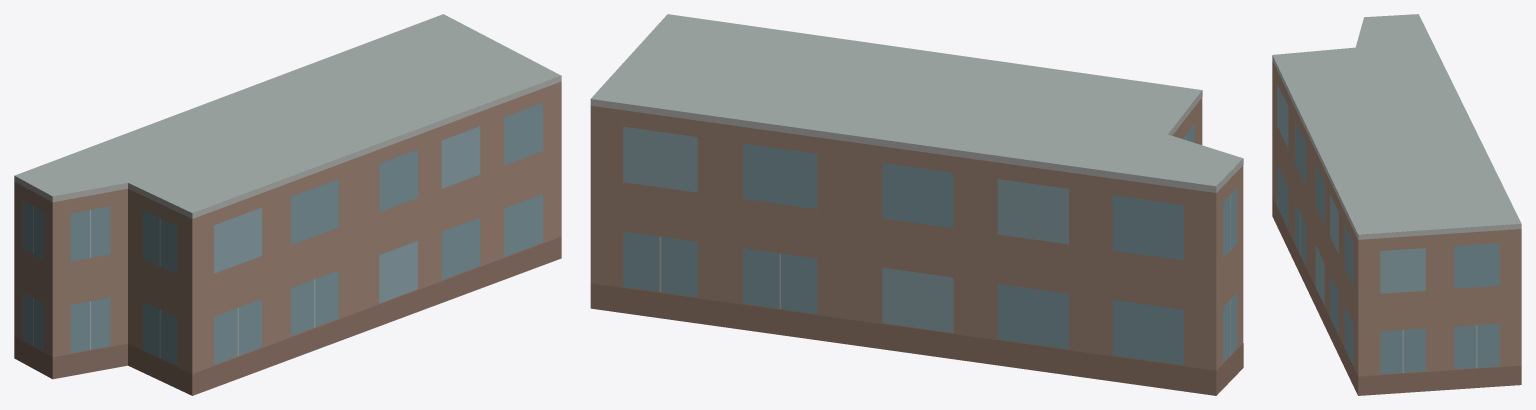
File: survey-upis-32969924.glb
3 views of the same model, side by side, from view 1: azimuth 30°, elevation 25°; view 2: azimuth 150°, elevation 25°; view 3: azimuth 270°, elevation 25° (orthographic). The views are drawn at different scales.
Visible parts, largest first — view 1: survey-upis-32969924.tmp; view 2: survey-upis-32969924.tmp; view 3: survey-upis-32969924.tmp.
Boxes of the visible parts, bbox=[...] form: survey-upis-32969924.tmp: bbox=[14, 14, 561, 395]; survey-upis-32969924.tmp: bbox=[590, 14, 1243, 395]; survey-upis-32969924.tmp: bbox=[1272, 14, 1521, 395].
Bounding box in the file's own units: 22.33 × 7.6 × 10.66.
